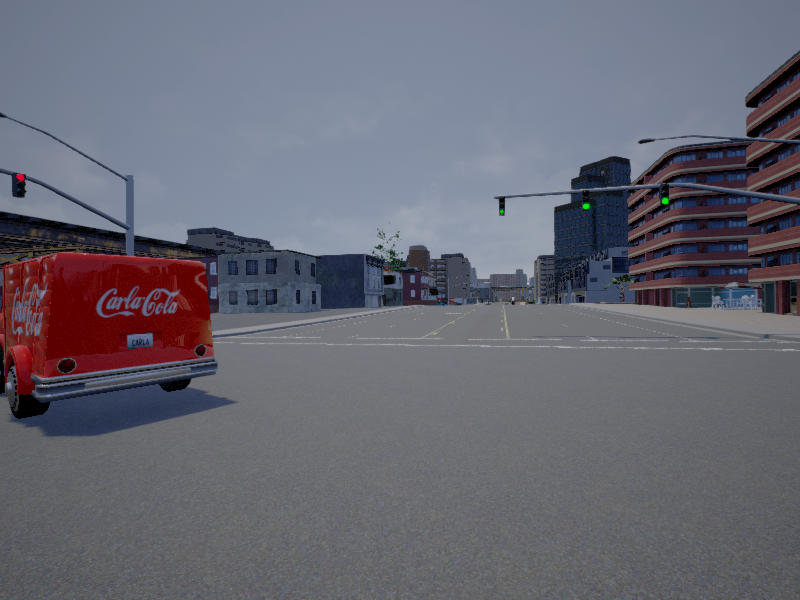Benign: (1, 253, 219, 421)
